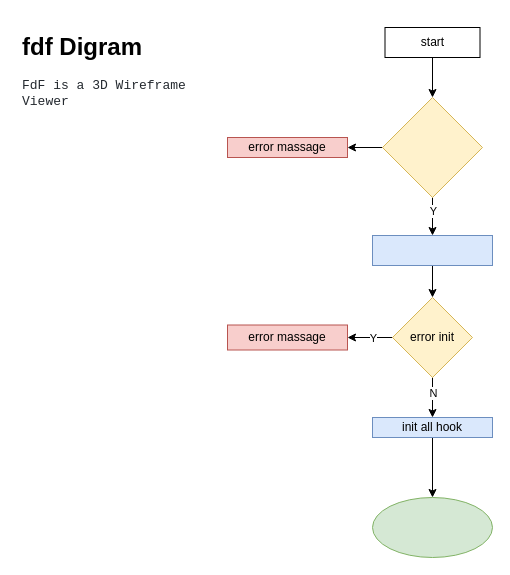
This 510x575 diagram has some shape labels left out. The shapes that lost their labels are listed below. From the top down, each one's box as (x1, y1, x2, y2) in pixels, then its label:
(382, 96, 482, 198): 2 arg on commend
(372, 234, 492, 266): init windowes
(372, 496, 492, 558): Open Map
